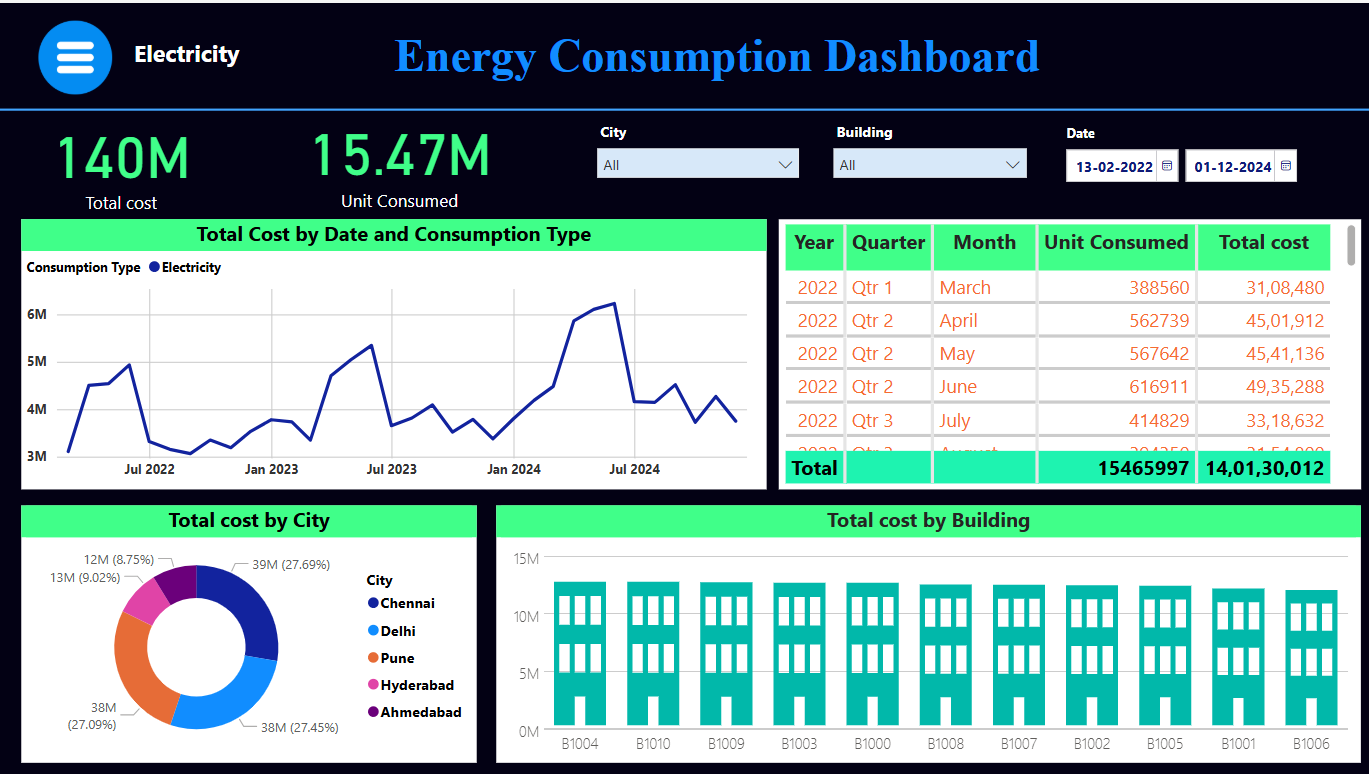

What the dashboard file says about the page in this screenshot:
{"tool":"powerbi","page":{"name":"Electricity","canvas":[1280,720],"ordinal":2},"visuals":[{"type":"shape","box":[0,81.4,1280,35.7],"z":0},{"type":"image","box":[20,11.4,100,78.6],"z":1000},{"type":"textbox","box":[280,20,778.3,60],"z":2000},{"type":"textbox","box":[120,26.7,160,45],"z":3000},{"type":"card","fields":{"Values":["Energy Consumption.Total cost"]},"box":[0,95,226.7,106.7],"z":4000},{"type":"card","fields":{"Values":["Energy Consumption.Unit Consumed"]},"box":[265,90,216.7,111.7],"z":5000},{"type":"slicer","fields":{"Values":["Energy Consumption.Building"]},"box":[766.7,106.7,200,78.3],"z":6000},{"type":"slicer","fields":{"Values":["Building Master.City"]},"box":[546.7,106.7,208.3,78.3],"z":7000},{"type":"slicer","fields":{"Values":["Energy Consumption.Date"]},"box":[981.7,108.3,298.3,63.3],"z":8000},{"type":"donutChart","fields":{"Y":["Energy Consumption.Total cost"],"Category":["Building Master.City"]},"box":[20,468.3,425,240],"z":9000},{"type":"PBI_CV_73744D90_4DC9_4F18_8BA5_EE8FA5C98035","fields":{"Category":["Building Master.Building"],"Values":["Energy Consumption.Total cost"]},"box":[463.3,468.3,806.7,240],"z":10000},{"type":"lineChart","title":"Total Cost by Date and Consumption Type","fields":{"Category":["Energy Consumption.Date"],"Y":["Energy Consumption.Total cost"],"Series":["Energy Consumption.Consumption Type"]},"box":[20,201.7,695,251.7],"z":11000},{"type":"tableEx","title":"Total Cost by Date and Consumption Type","fields":{"Values":["Energy Consumption.Date.Variation.Date Hierarchy.Year","Energy Consumption.Date.Variation.Date Hierarchy.Quarter","Energy Consumption.Date.Variation.Date Hierarchy.Month","Energy Consumption.Unit Consumed","Energy Consumption.Total cost"]},"box":[726.7,201.7,543.3,251.7],"z":12000},{"type":"actionButton","box":[28.3,10.4,83.3,78.9],"z":15000}]}

Visuals, with their boxes in screenshot pixels (x1, y1, x2, y2), scaled from the page's 1280x720 canvas onto the 1369x774 screenshot:
shape: Rect(0, 88, 1368, 126)
image: Rect(21, 12, 128, 97)
textbox: Rect(299, 22, 1132, 86)
textbox: Rect(128, 29, 299, 77)
card - Energy Consumption.Total cost: Rect(0, 102, 242, 217)
card - Energy Consumption.Unit Consumed: Rect(283, 97, 515, 217)
slicer - Energy Consumption.Building: Rect(820, 115, 1034, 199)
slicer - Building Master.City: Rect(585, 115, 807, 199)
slicer - Energy Consumption.Date: Rect(1050, 116, 1368, 184)
donutChart - Energy Consumption.Total cost x Building Master.City: Rect(21, 503, 476, 761)
PBI_CV_73744D90_4DC9_4F18_8BA5_EE8FA5C98035 - Building Master.Building x Energy Consumption.Total cost: Rect(496, 503, 1358, 761)
"Total Cost by Date and Consumption Type" lineChart: Rect(21, 217, 765, 487)
"Total Cost by Date and Consumption Type" tableEx: Rect(777, 217, 1358, 487)
actionButton: Rect(30, 11, 119, 96)
